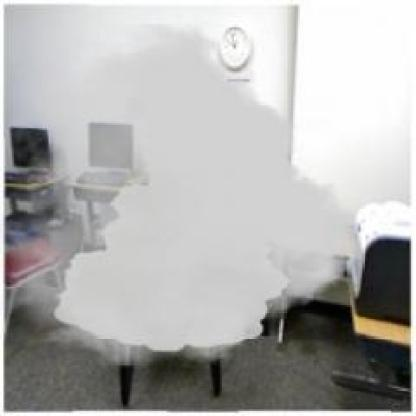Smoke: (0, 25, 359, 367)
